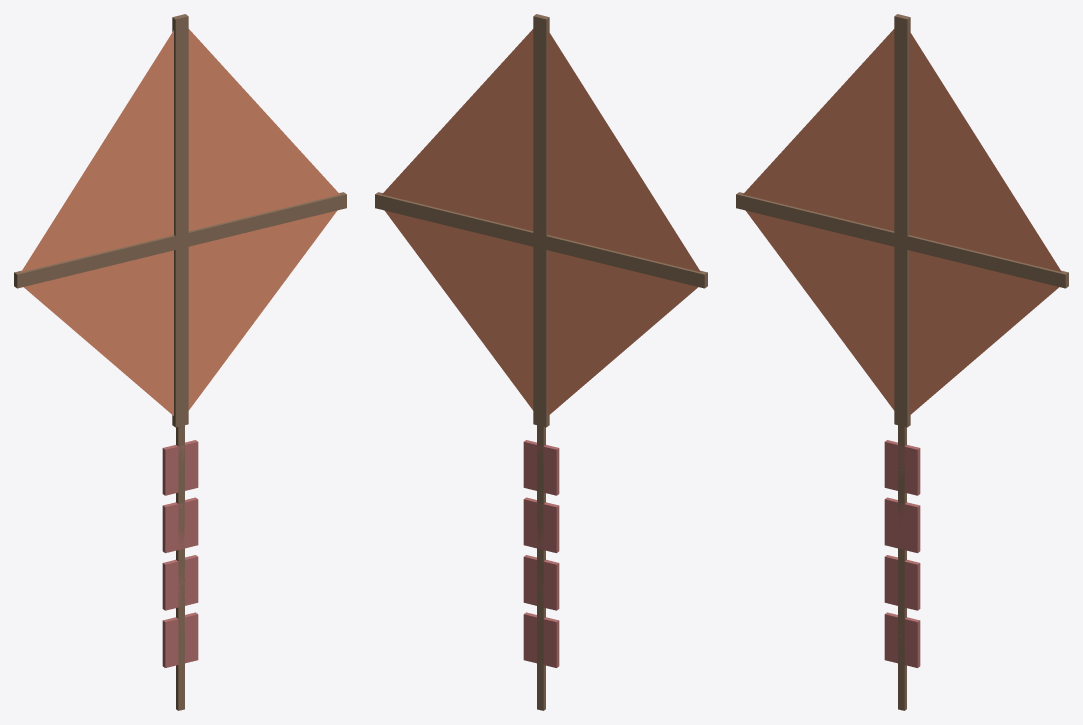
Rendered from kit_kite.glb.
3 renders of one model, left to right at view 1: azimuth 30°, elevation 25°; view 2: azimuth 150°, elevation 25°; view 3: azimuth 330°, elevation 25°, orthographic.
Visible parts, largest first — view 1: kit_kite; view 2: kit_kite; view 3: kit_kite.
Part boxes in pixels (x1=…): kit_kite: x1=14, y1=14, x2=346, y2=710; kit_kite: x1=375, y1=14, x2=707, y2=710; kit_kite: x1=736, y1=14, x2=1068, y2=710.
Bounding box in the file's own units: 0.6001 × 1.2 × 0.01.
